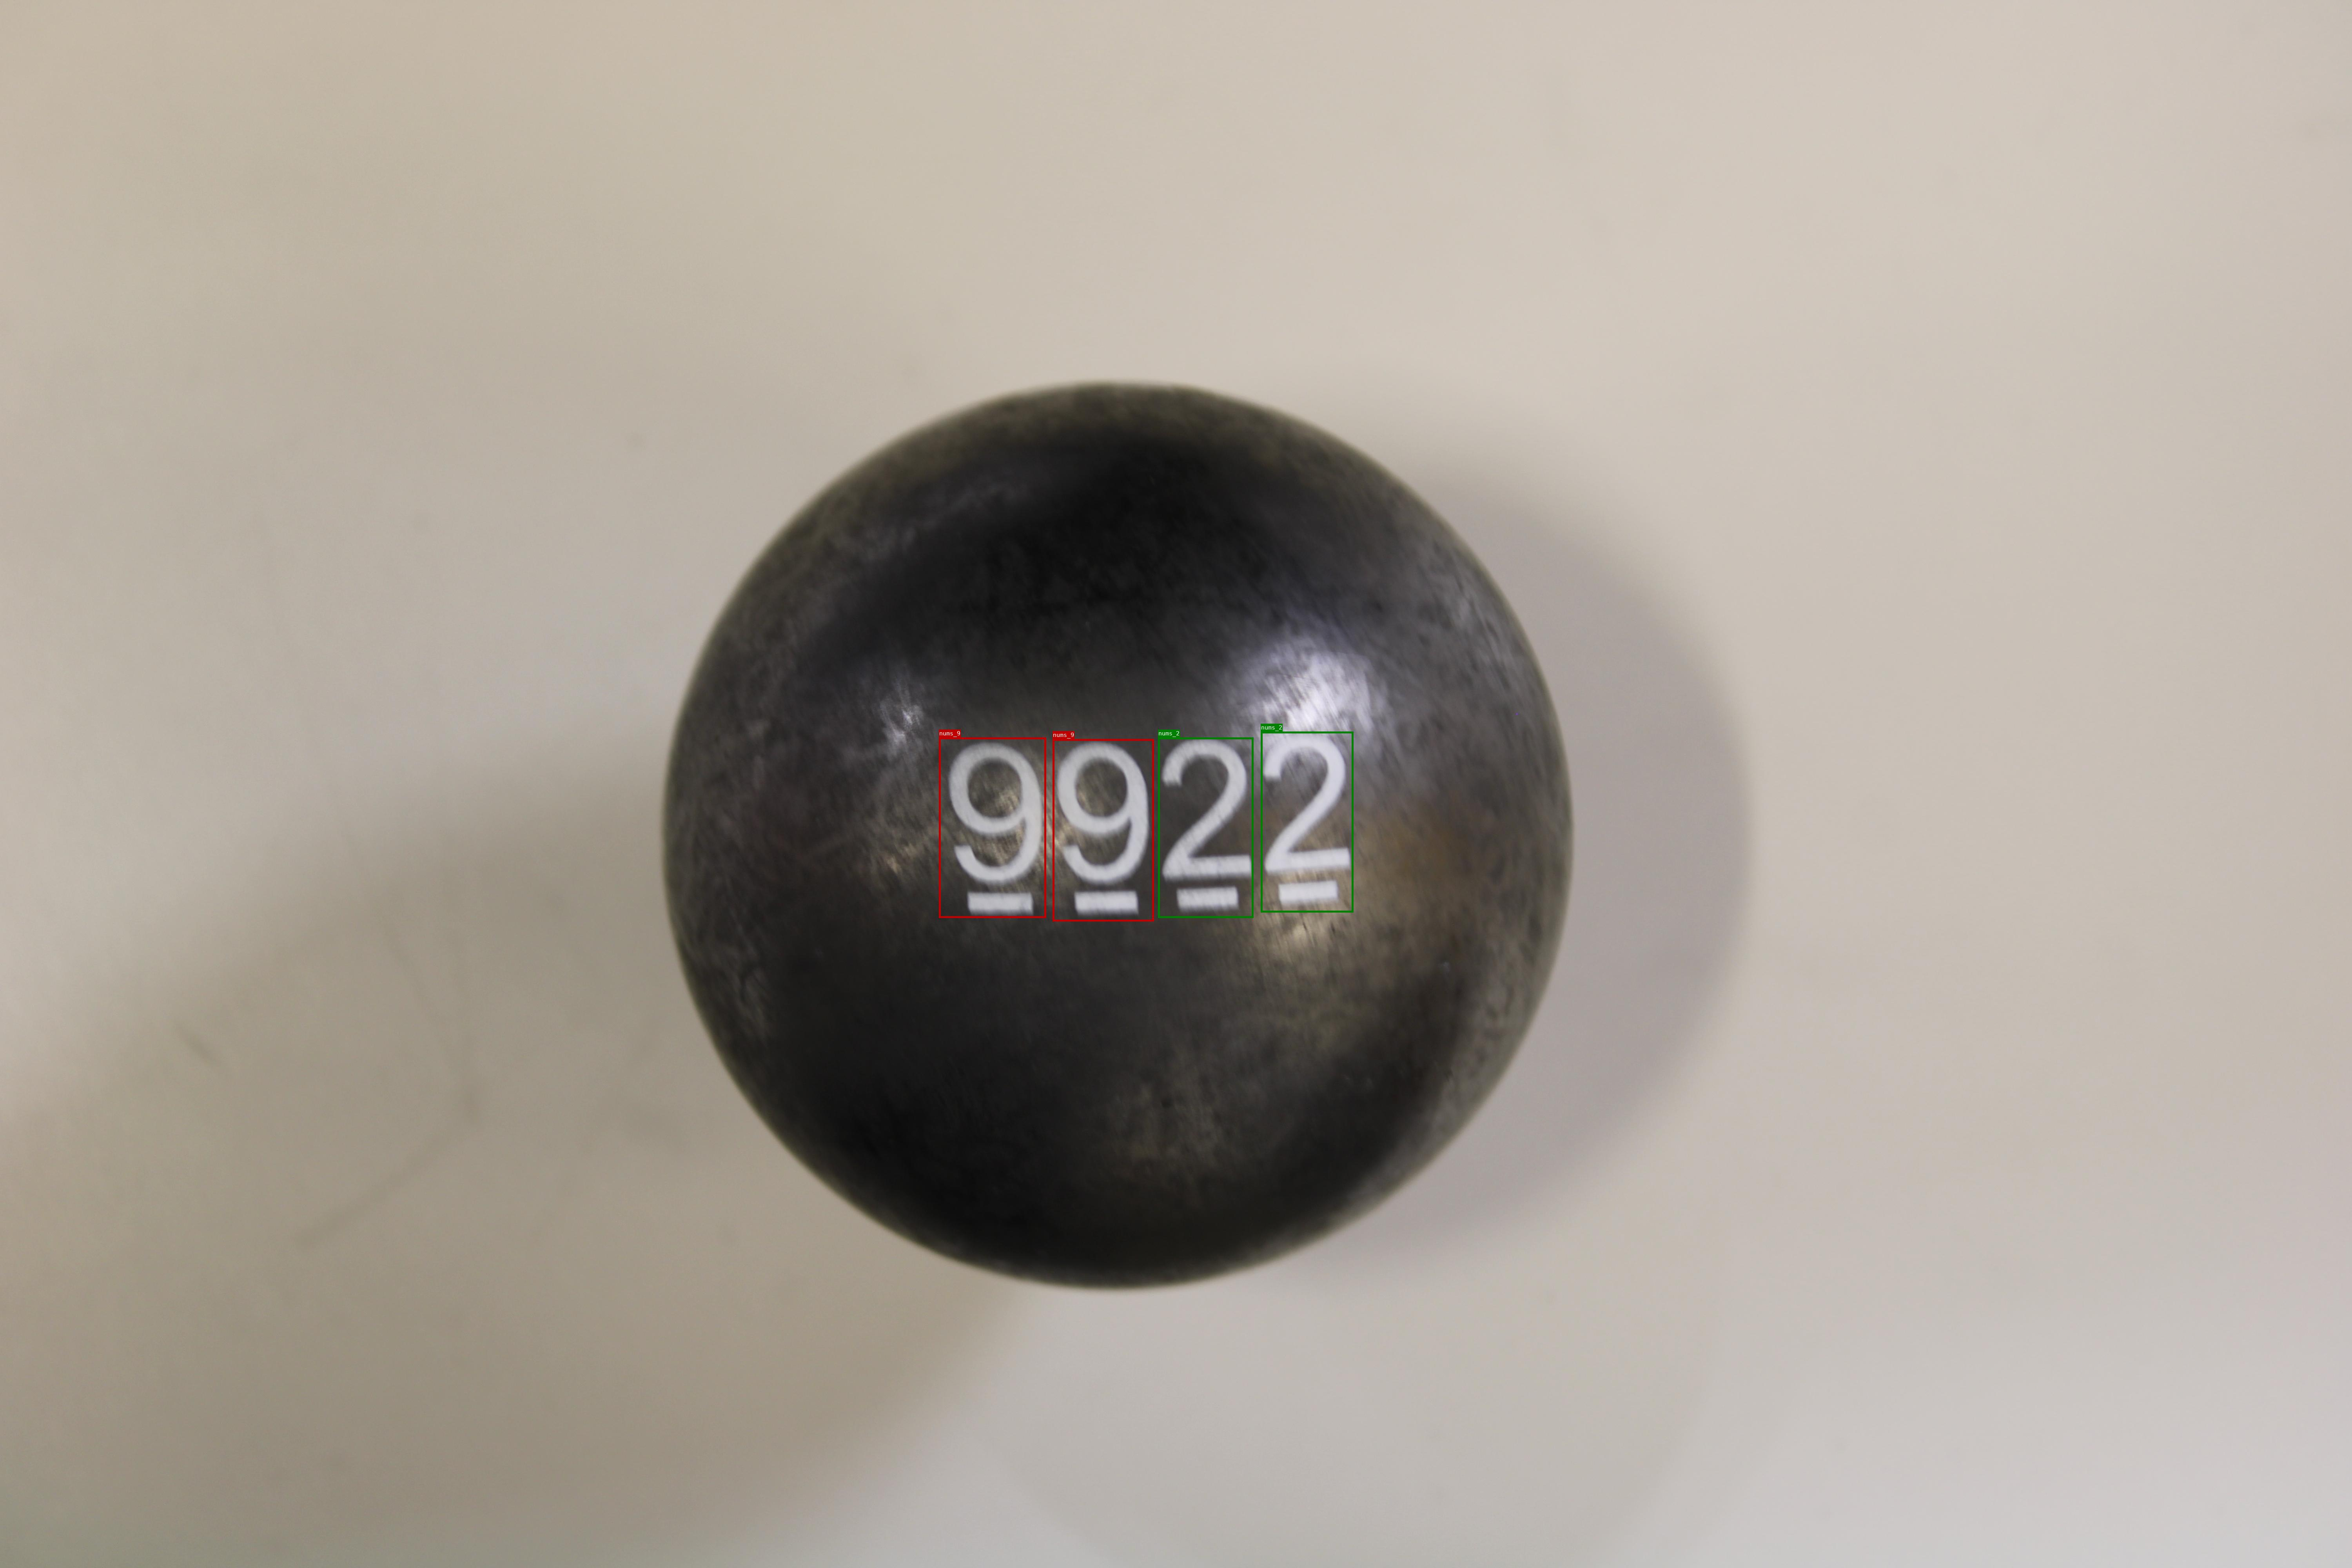nums_2: (1159, 737, 1253, 917), (1260, 732, 1353, 912)
nums_9: (938, 737, 1047, 917), (1052, 739, 1153, 921)
